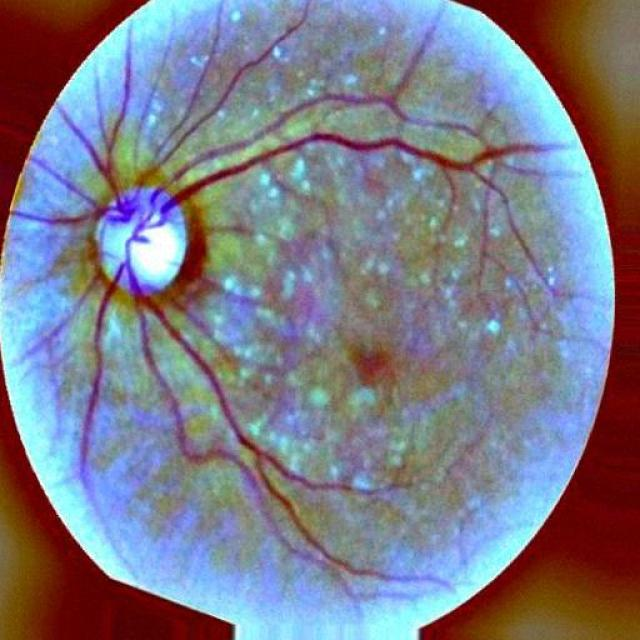Macula: (346, 346, 396, 390)
Nerves: (124, 268, 325, 564), (157, 131, 480, 210)
Optic Disk: (87, 184, 187, 295)
